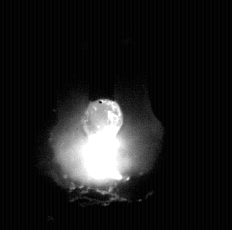arame: (89, 0, 115, 102)
poca: (50, 0, 162, 230)
